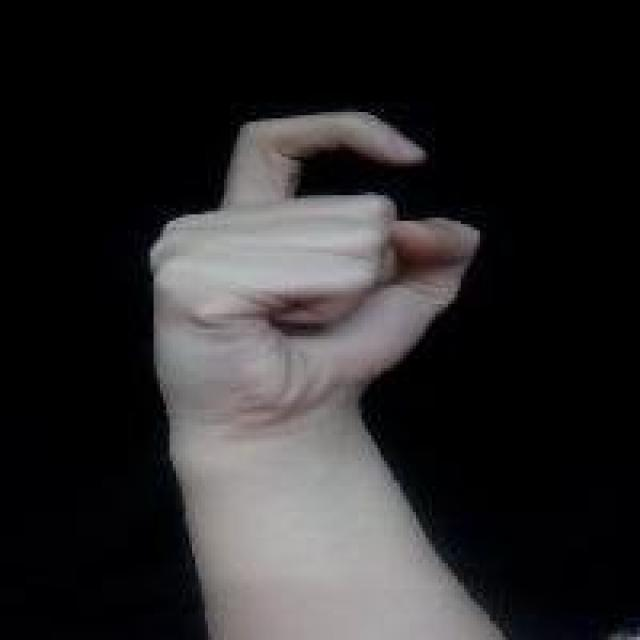X: (148, 109, 486, 445)
